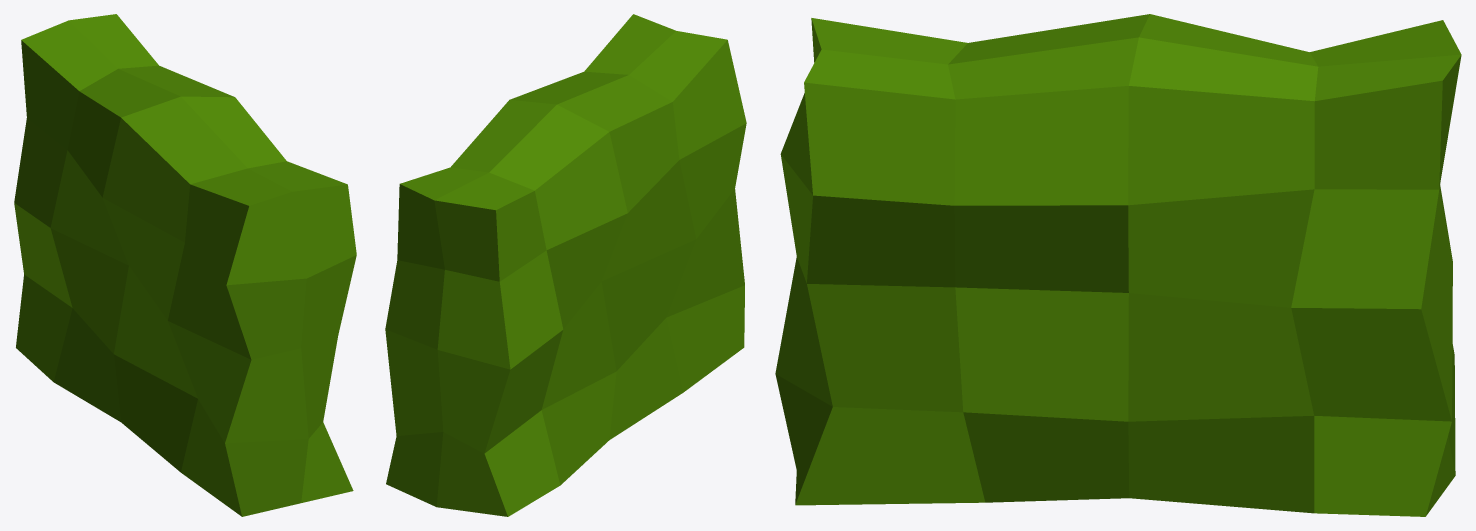
File: MazeWall_02.fbx
The picture shows the model from 3 angles, left to right: view 1: azimuth 30°, elevation 25°; view 2: azimuth 150°, elevation 25°; view 3: azimuth 270°, elevation 25°; orthographic projection. The views are drawn at different scales.
Parts seen in each view (by area): view 1: maze_1; view 2: maze_1; view 3: maze_1.
Boxes of the visible parts, box(x1,y1,x2,y2) form: maze_1: box(14, 14, 356, 516); maze_1: box(385, 14, 746, 516); maze_1: box(775, 14, 1461, 516).
Size of the model in its own units: 2.78 by 5.63 by 8.04.
